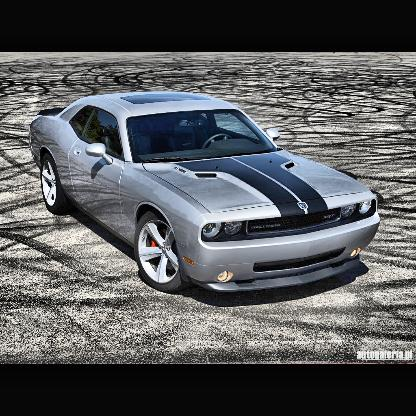Dodge Challenger SRT8 2011: (30, 90, 382, 298)
